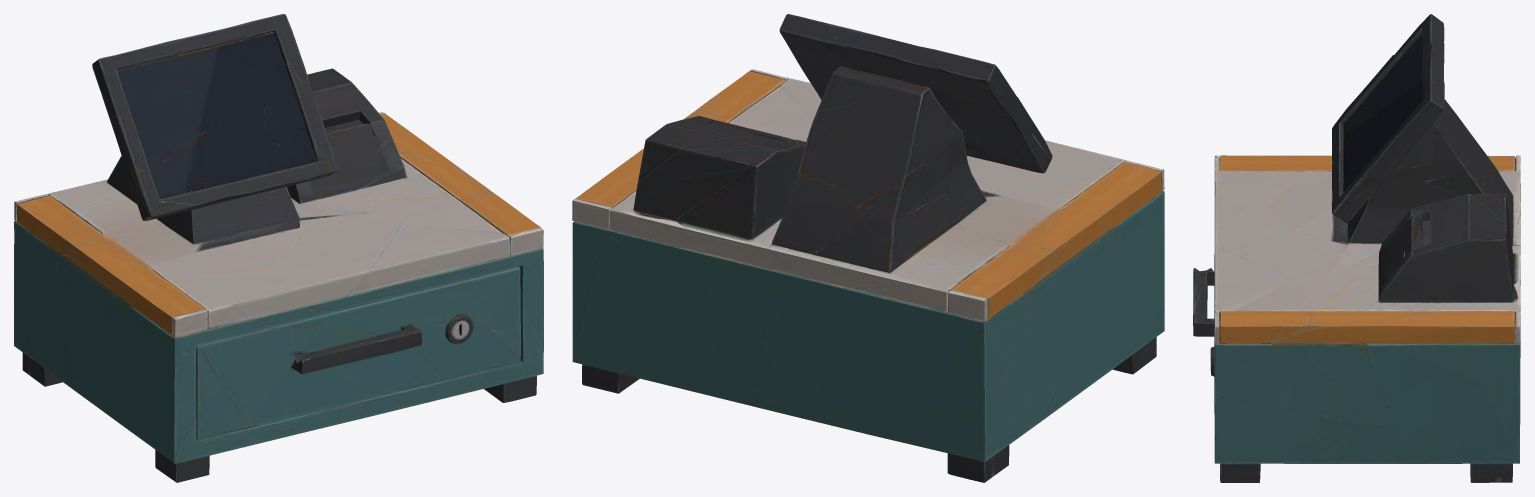
File: register.glb
The picture shows the model from 3 angles, left to right: view 1: azimuth 30°, elevation 25°; view 2: azimuth 150°, elevation 25°; view 3: azimuth 270°, elevation 25°; orthographic projection. The views are drawn at different scales.
Visible parts, largest first — view 1: Mesh_0; view 2: Mesh_0; view 3: Mesh_0.
Part boxes in pixels (bbox=[...]): Mesh_0: bbox=[14, 14, 543, 482]; Mesh_0: bbox=[572, 14, 1164, 482]; Mesh_0: bbox=[1193, 14, 1520, 482].
Size of the model in its own units: 0.45 by 0.3901 by 0.3639.
1 material, 1 textured.
